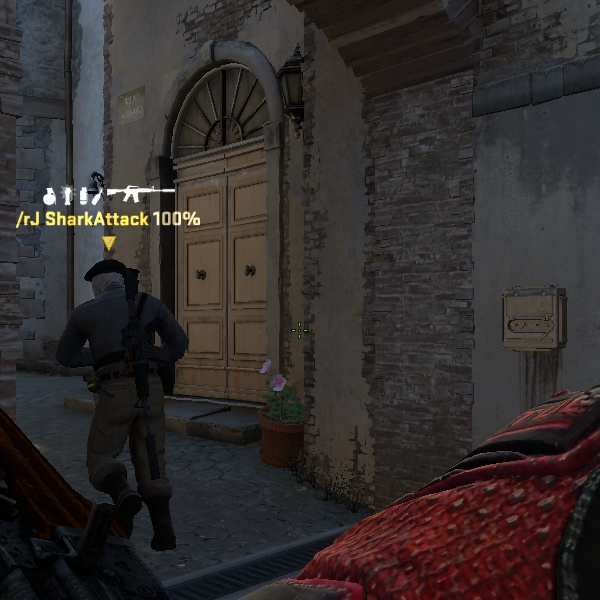ct_head: (78, 252, 142, 308)
t_body: (21, 254, 219, 552)
